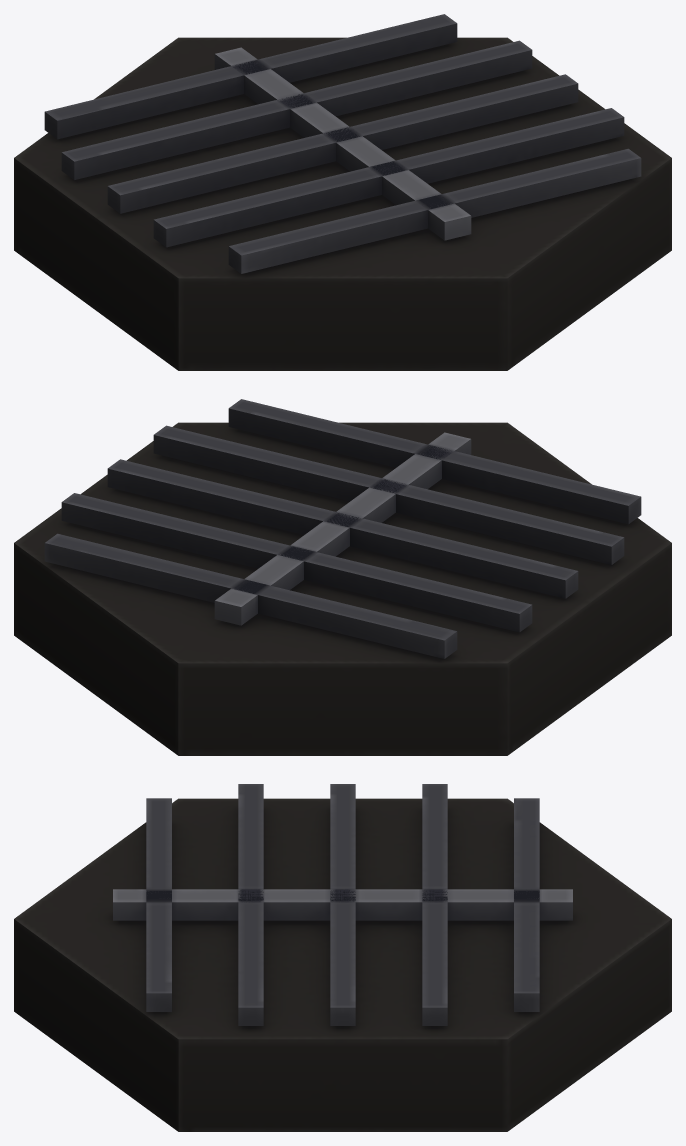
Rendered from tile_hex_metal_b.glb.
3 renders of one model, top to bottom at view 1: azimuth 30°, elevation 25°; view 2: azimuth 150°, elevation 25°; view 3: azimuth 270°, elevation 25°, orthographic.
Parts seen in each view (by area): view 1: tile_hex_metal_b; view 2: tile_hex_metal_b; view 3: tile_hex_metal_b.
Part boxes in pixels (box(x1,y1,x2,y2)): tile_hex_metal_b: box(14, 14, 671, 370); tile_hex_metal_b: box(14, 399, 671, 755); tile_hex_metal_b: box(14, 784, 671, 1131).
Bounding box in the file's own units: 1.12 × 0.25 × 1.29.
Materials: 1 (1 with a texture image).
